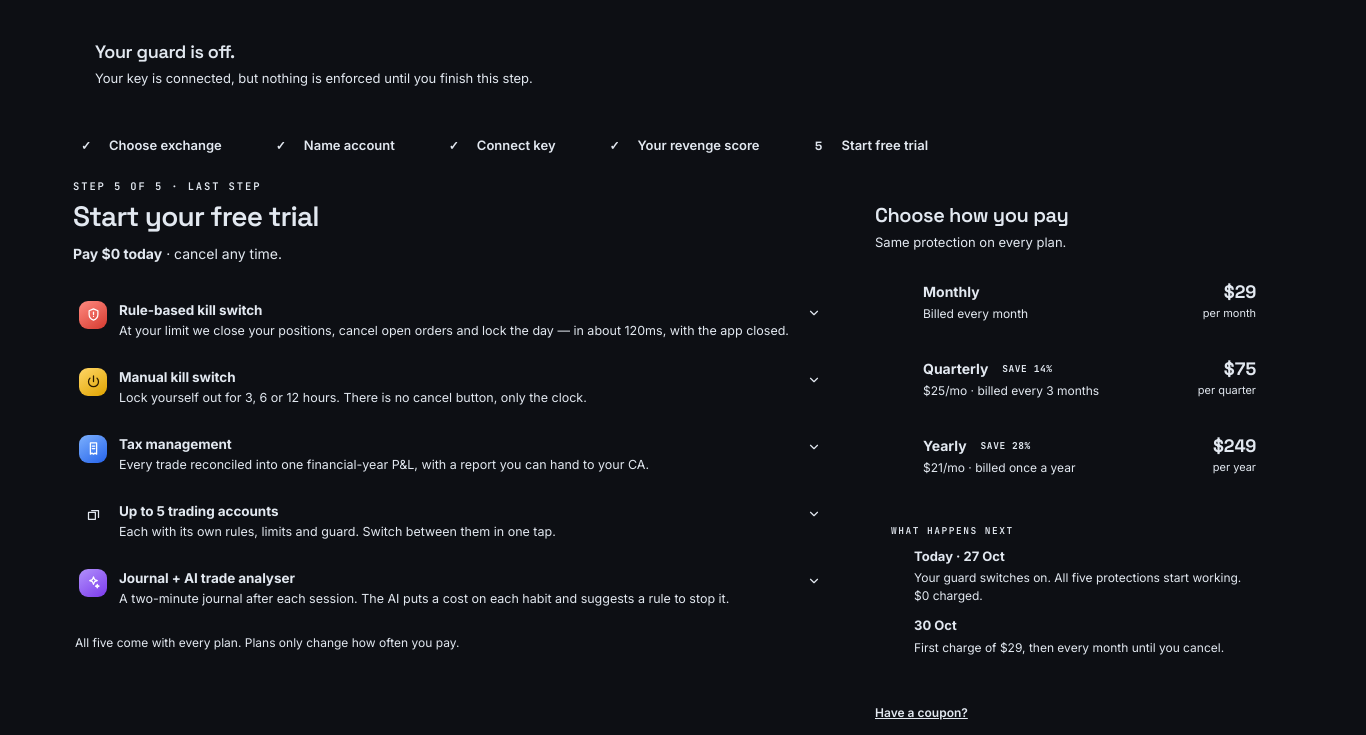
Test: billing step › keeps the tax wording exactly, with the claim it qualifies
The image size is (1366, 735).
Click the button "Tax management". click: (450, 454)
box: x1=73 y1=421 x2=827 y2=488
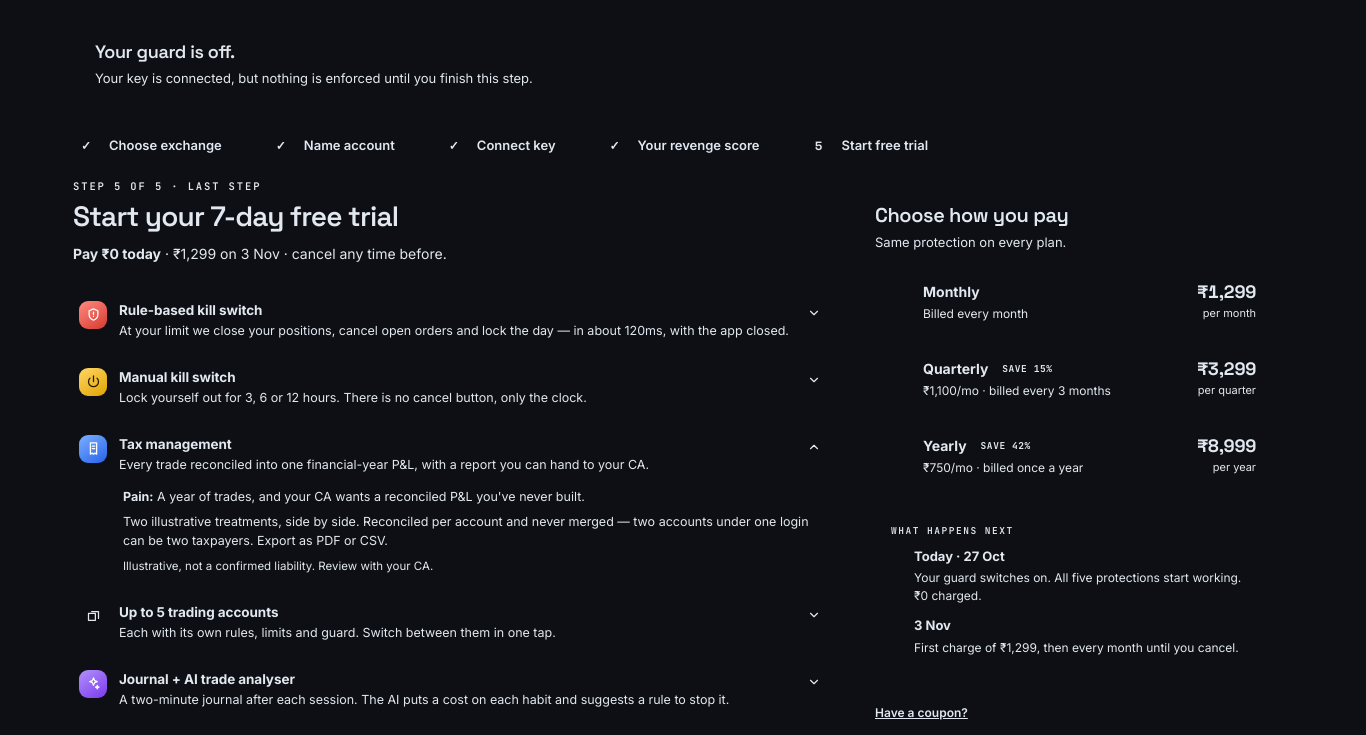
Check: the text "Illustrative, not a confirmed liability. Review with your CA." is shown, box x1=123 y1=559 x2=433 y2=573
